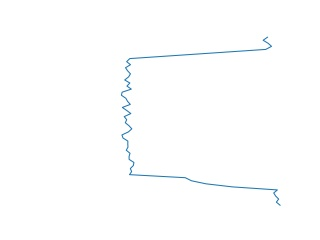distributaryChannelFill: (117, 36, 285, 206)
